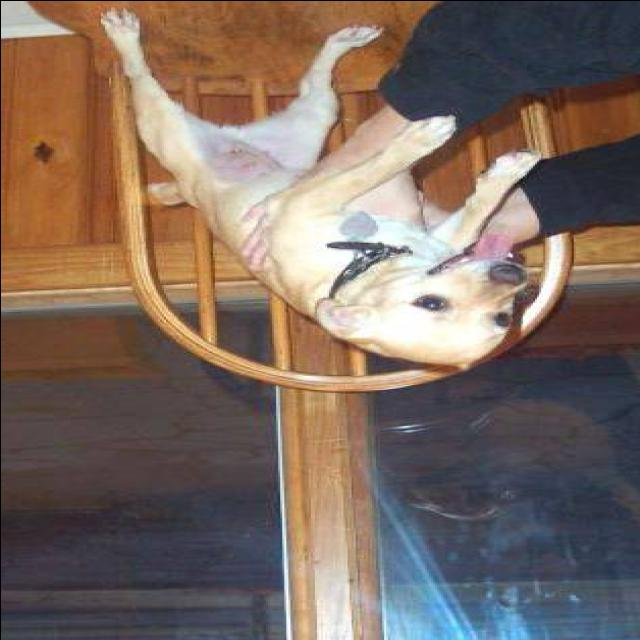dog: (74, 1, 566, 394)
